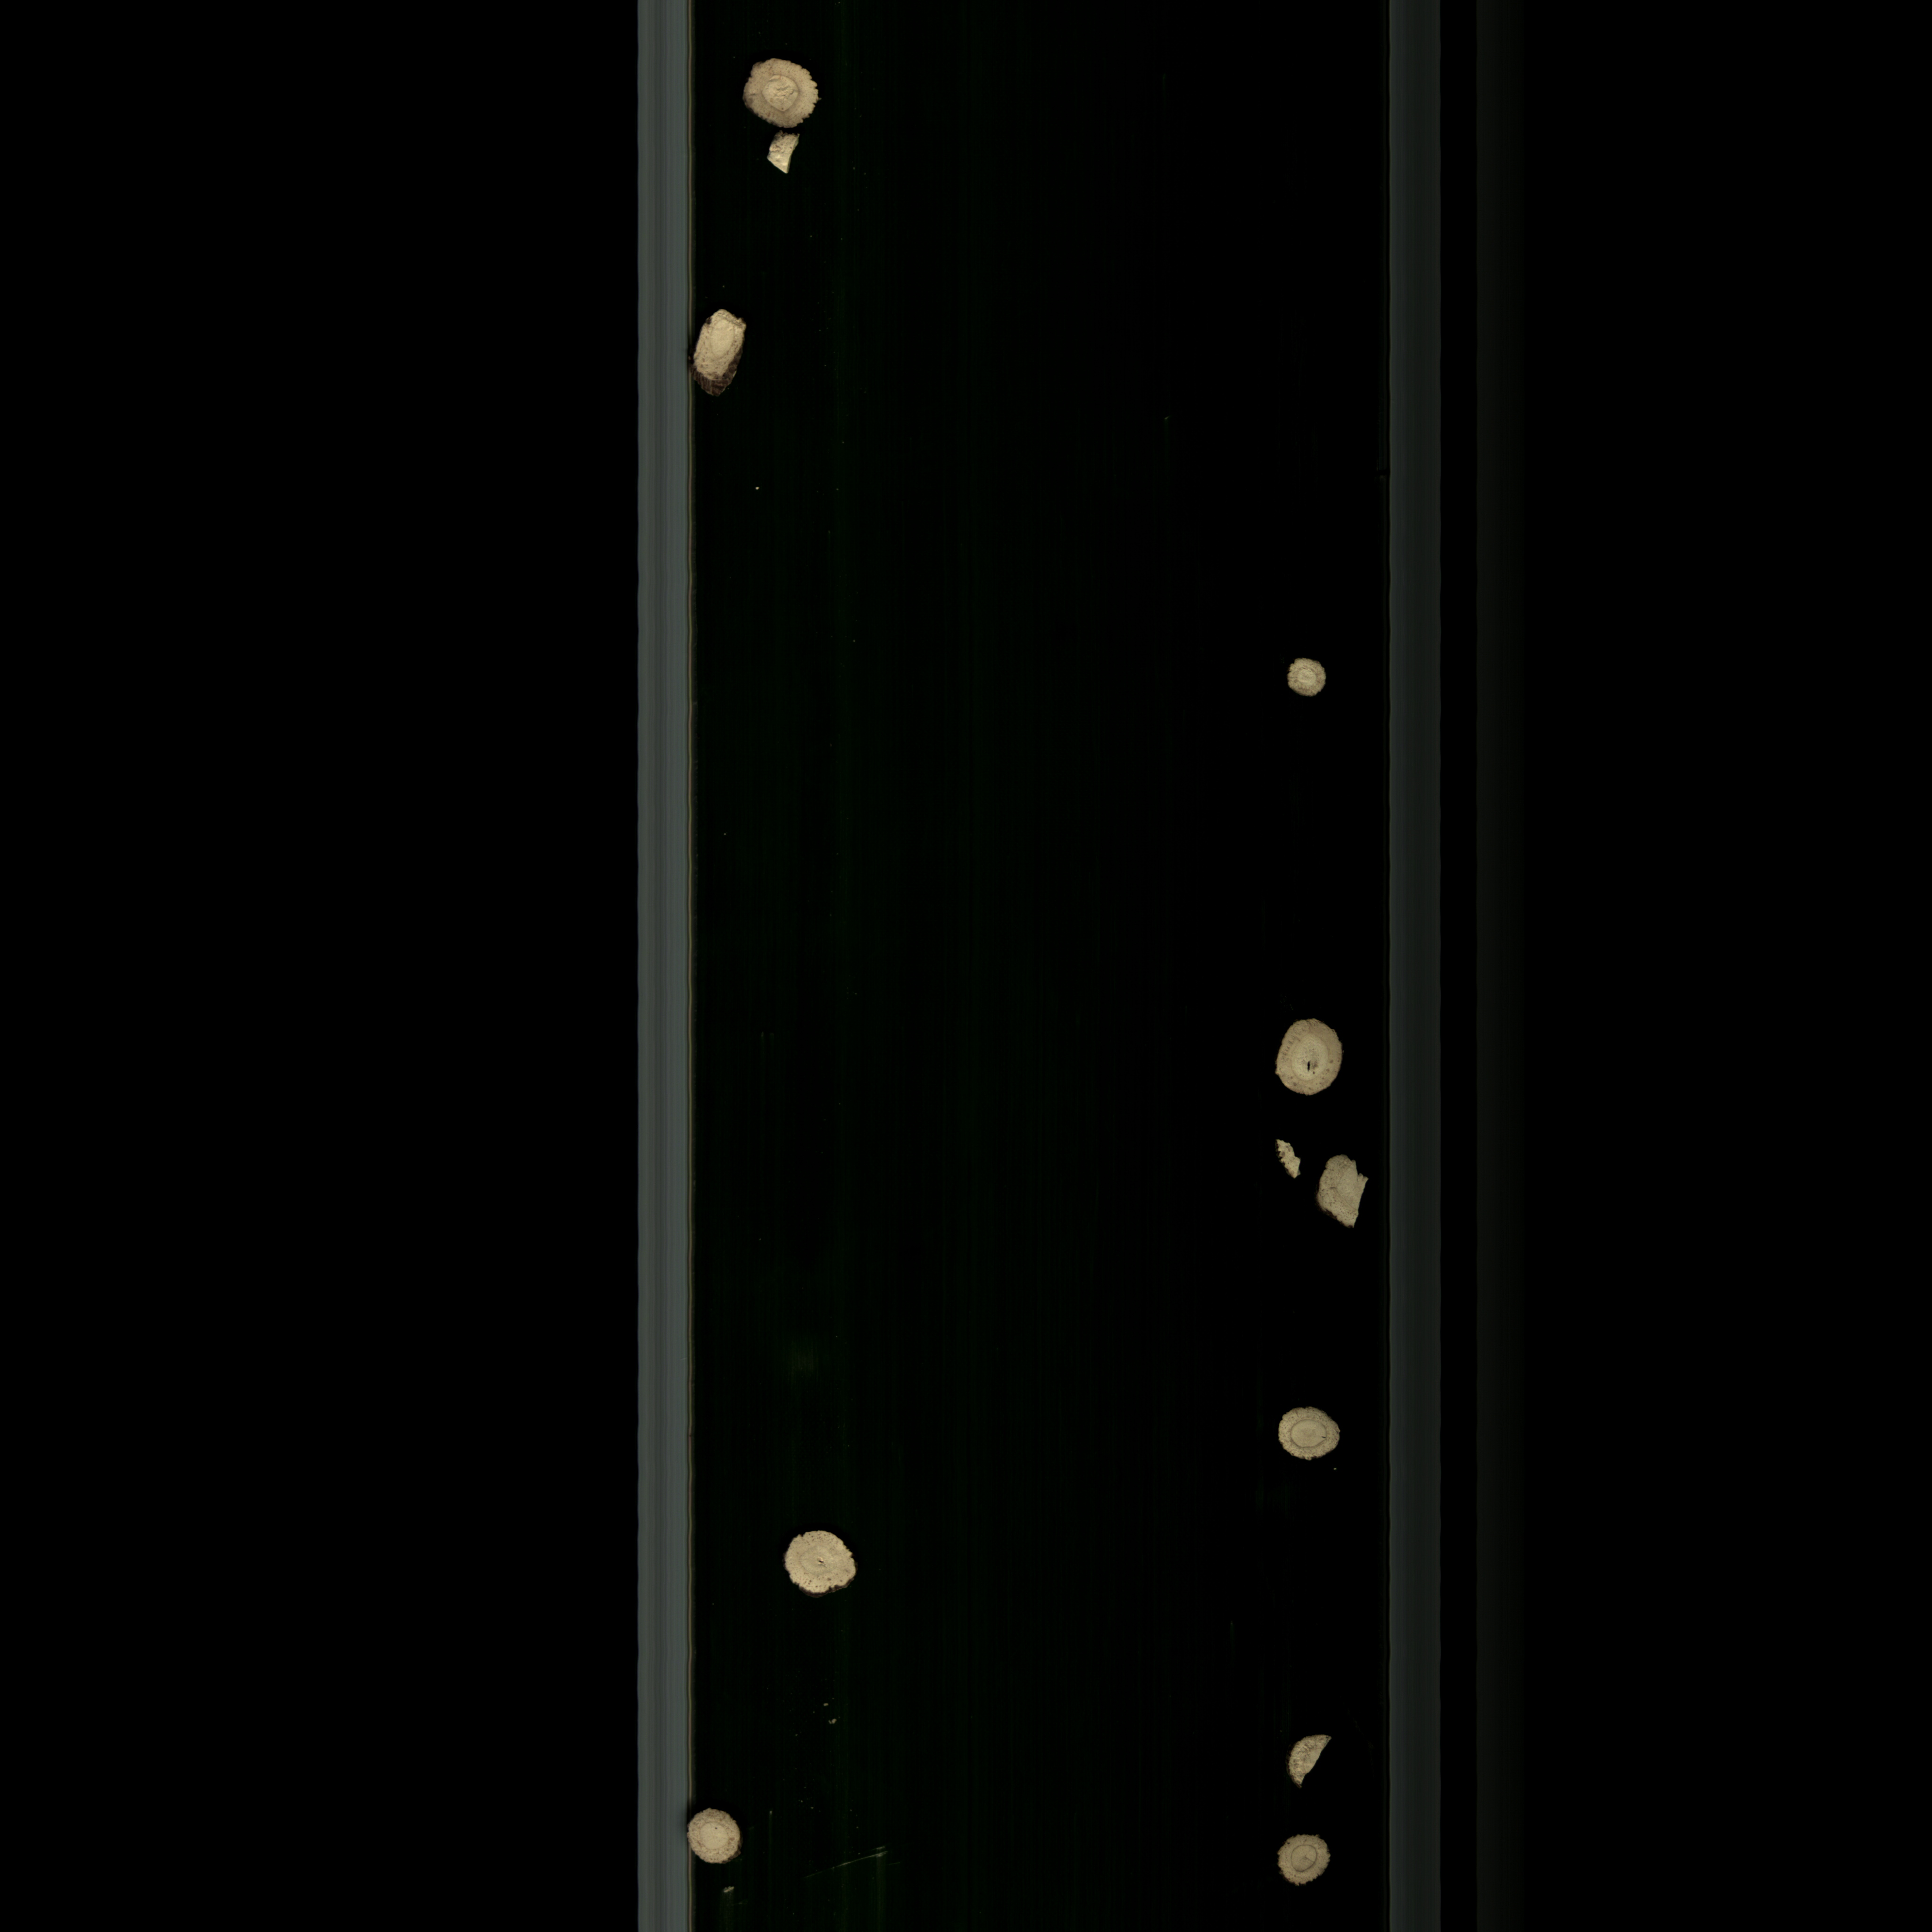debris: (1311, 1141, 1373, 1247)
distortion: (690, 310, 750, 409), (764, 127, 800, 193), (1269, 1138, 1307, 1185)
hole: (1263, 1007, 1348, 1106)
moldy: (741, 48, 833, 134), (1269, 1829, 1343, 1895), (1270, 1403, 1346, 1467), (683, 1803, 743, 1874), (1284, 1725, 1338, 1798)
